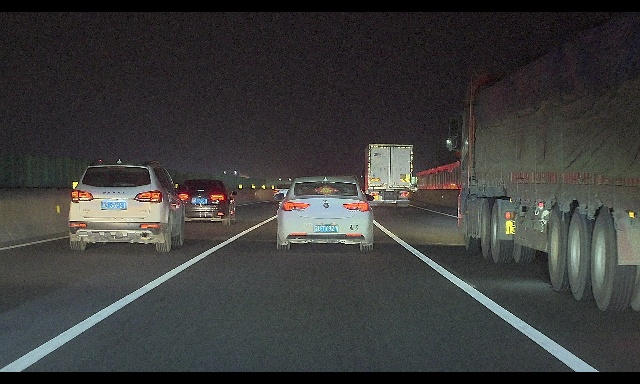car: (68, 158, 188, 252), (274, 176, 374, 251), (174, 179, 238, 226), (337, 174, 359, 199), (273, 184, 300, 204)
truck: (446, 12, 640, 311), (361, 144, 414, 208)
